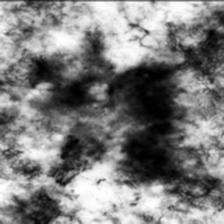Potentially Malignant Skin Tumors: (23, 31, 214, 210)
